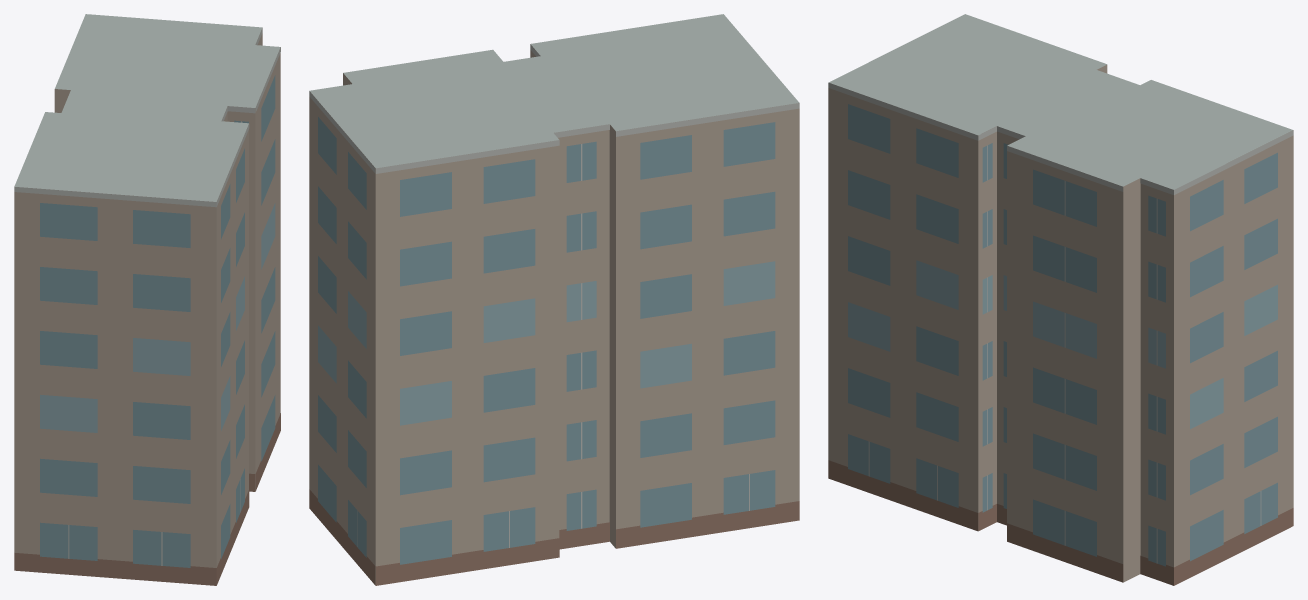
File: survey-upis-32670256.glb
The picture shows the model from 3 angles, left to right: view 1: azimuth 30°, elevation 25°; view 2: azimuth 150°, elevation 25°; view 3: azimuth 270°, elevation 25°; orthographic projection. The views are drawn at different scales.
Visible parts, largest first — view 1: survey-upis-32670256.tmp; view 2: survey-upis-32670256.tmp; view 3: survey-upis-32670256.tmp.
Boxes of the visible parts, x1,y1,x2,y2 form: survey-upis-32670256.tmp: (14, 14, 280, 585); survey-upis-32670256.tmp: (309, 14, 799, 585); survey-upis-32670256.tmp: (828, 14, 1293, 585).
Size of the model in its own units: 17.16 by 18 by 19.17.
